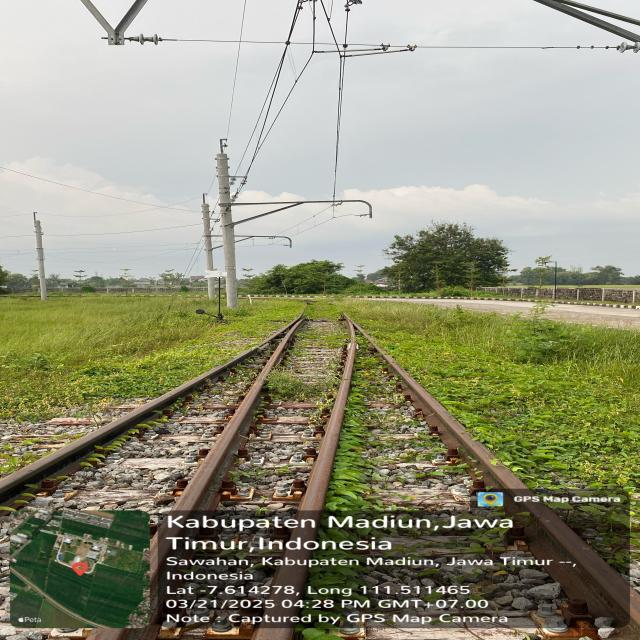rail-detection: (0, 314, 307, 572), (255, 316, 372, 640), (371, 342, 532, 514), (520, 499, 630, 611)
